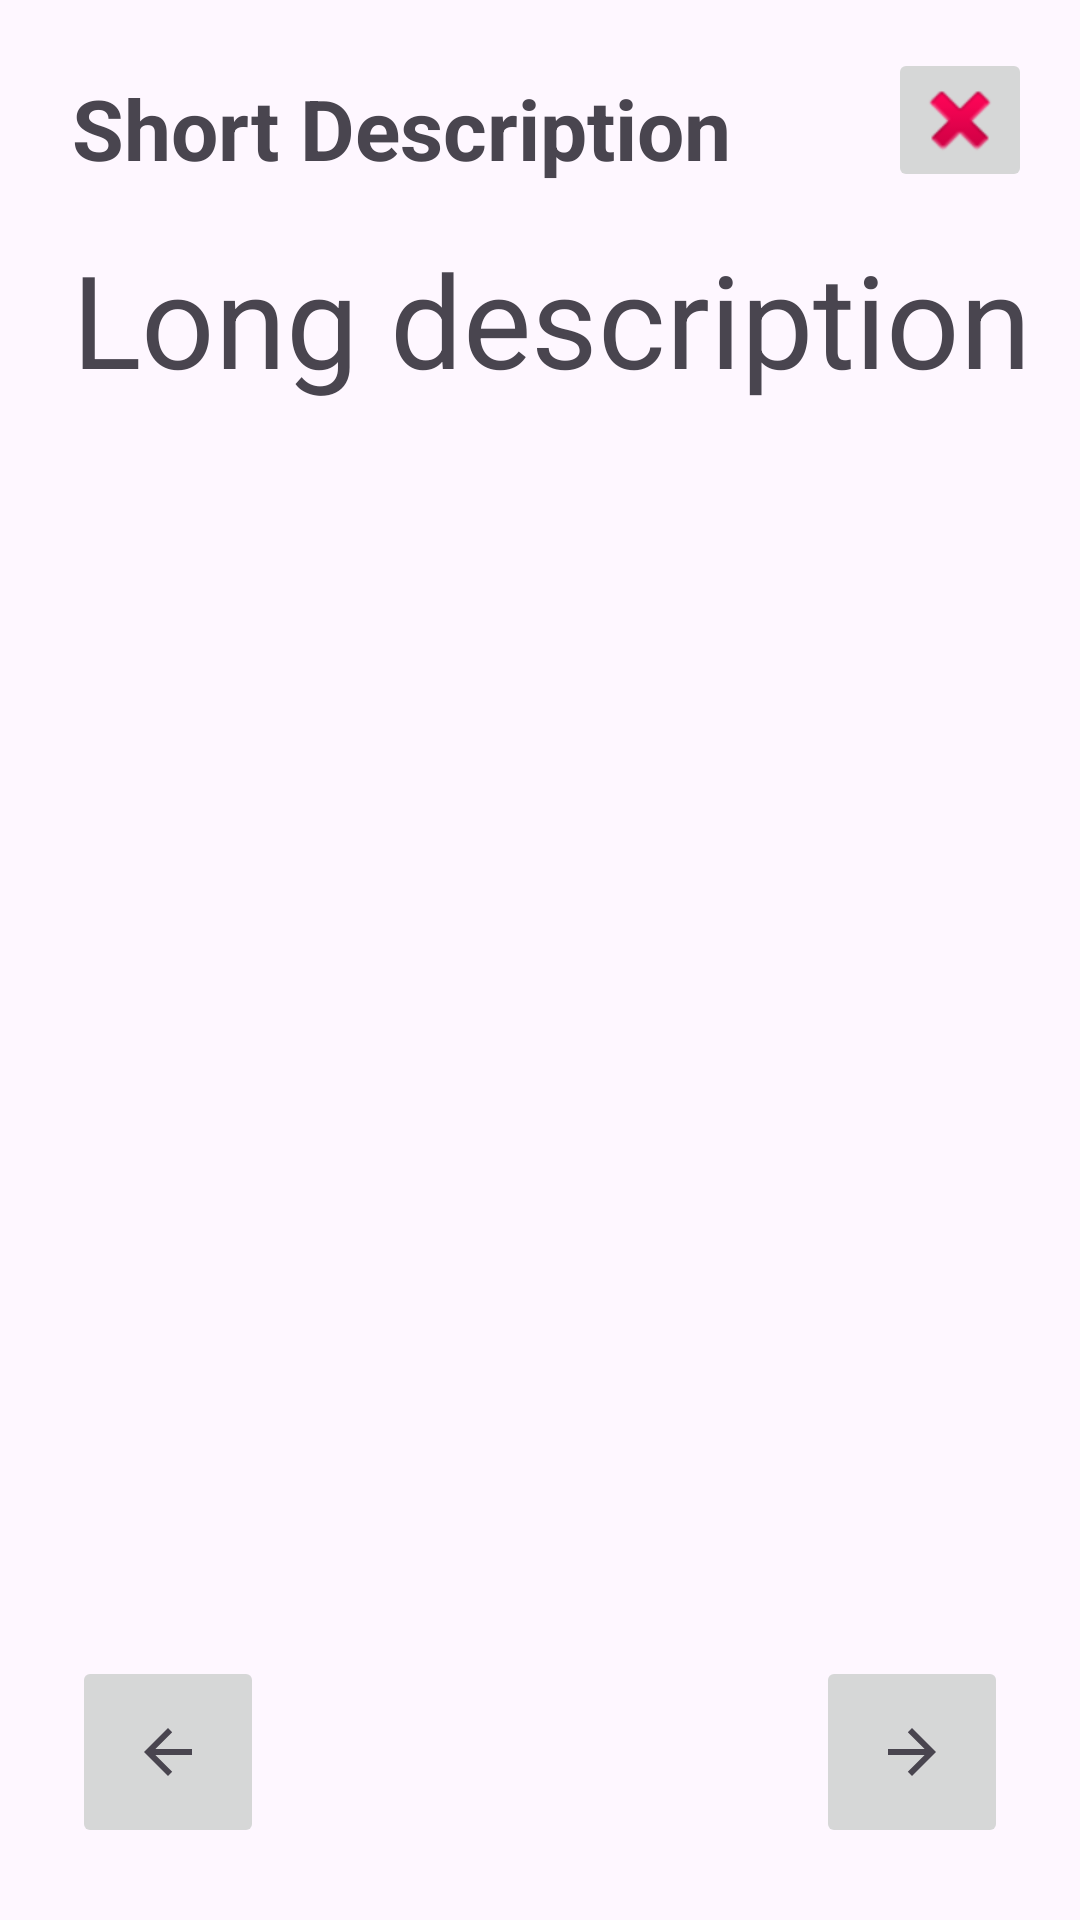

Screen size 1080px×1920px. Icon name, then its box in pixels as (x1, y1, x2, y2):
delete: (900, 66, 1020, 174)
